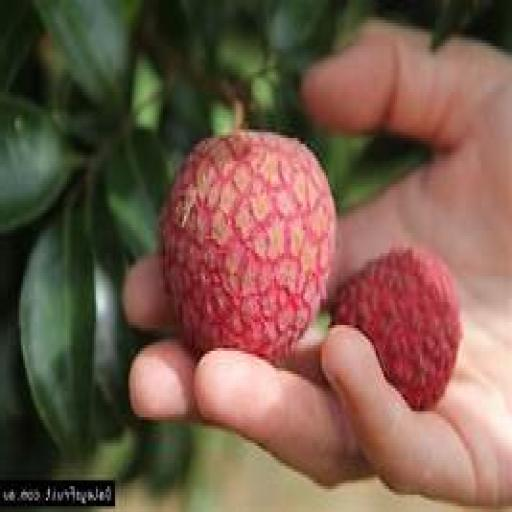lychee: (161, 130, 334, 362), (333, 248, 461, 408)
